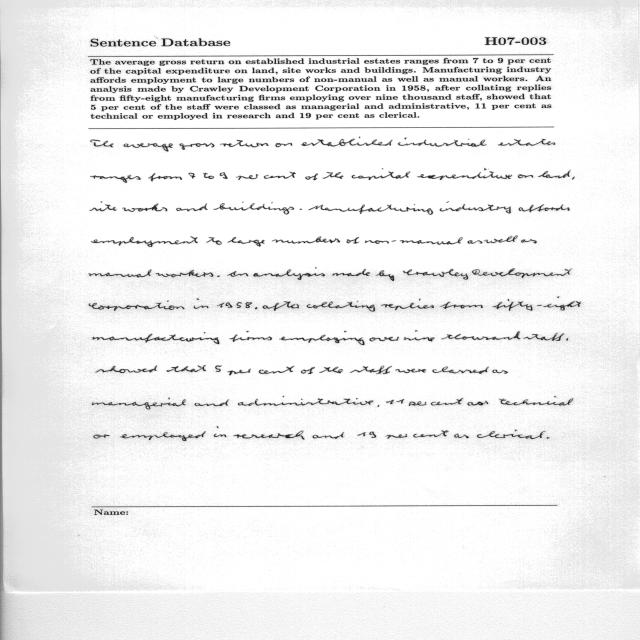word: (93, 332, 220, 344), (308, 204, 433, 215), (238, 396, 374, 406), (493, 297, 581, 311), (280, 331, 365, 345), (91, 236, 198, 247), (417, 168, 512, 180), (89, 300, 185, 311), (214, 202, 295, 215), (92, 398, 186, 409), (472, 268, 572, 278), (253, 267, 325, 280), (301, 137, 392, 147), (120, 431, 206, 441), (440, 202, 511, 214), (398, 138, 486, 147), (365, 237, 463, 245), (499, 396, 573, 406), (403, 269, 468, 280), (442, 331, 521, 340), (352, 168, 410, 180), (307, 301, 375, 311), (233, 431, 305, 440), (477, 430, 545, 439), (381, 299, 434, 310), (89, 270, 152, 278), (96, 365, 157, 373), (272, 237, 340, 244), (230, 331, 272, 342), (432, 366, 489, 374), (124, 143, 173, 152), (519, 205, 570, 213), (123, 203, 168, 212), (498, 139, 555, 146), (156, 270, 213, 277), (263, 301, 299, 311), (91, 175, 141, 182), (220, 140, 269, 147), (404, 331, 435, 342), (350, 366, 392, 374), (228, 237, 265, 246), (524, 333, 564, 341), (440, 302, 483, 309), (259, 366, 294, 374), (167, 366, 206, 373), (148, 173, 182, 181), (90, 202, 117, 212), (332, 269, 370, 276), (538, 170, 571, 178), (176, 204, 208, 212), (431, 398, 463, 406), (413, 431, 449, 438), (180, 143, 215, 150), (484, 236, 518, 243), (195, 400, 229, 407), (264, 172, 296, 179), (313, 432, 344, 439), (217, 302, 252, 308), (376, 270, 394, 281), (91, 140, 113, 148), (194, 298, 208, 309), (319, 367, 343, 373), (323, 172, 343, 179), (228, 369, 251, 375), (236, 174, 258, 180), (214, 427, 226, 438), (206, 237, 222, 245), (227, 271, 248, 277), (395, 369, 426, 373), (369, 337, 399, 341), (357, 432, 376, 438), (386, 434, 407, 439), (468, 401, 488, 406), (301, 367, 315, 374), (305, 174, 318, 181), (386, 399, 404, 404), (409, 401, 426, 406), (492, 369, 508, 374), (347, 237, 360, 243), (275, 143, 292, 147), (93, 435, 110, 439), (203, 173, 214, 179), (521, 239, 537, 243), (518, 174, 533, 178), (468, 240, 483, 244), (454, 434, 469, 438), (220, 172, 228, 179), (215, 365, 222, 372), (189, 173, 196, 179), (572, 177, 575, 180), (217, 275, 220, 277), (566, 338, 568, 341), (255, 307, 257, 309), (378, 405, 380, 407), (547, 437, 549, 439), (300, 209, 302, 210)
